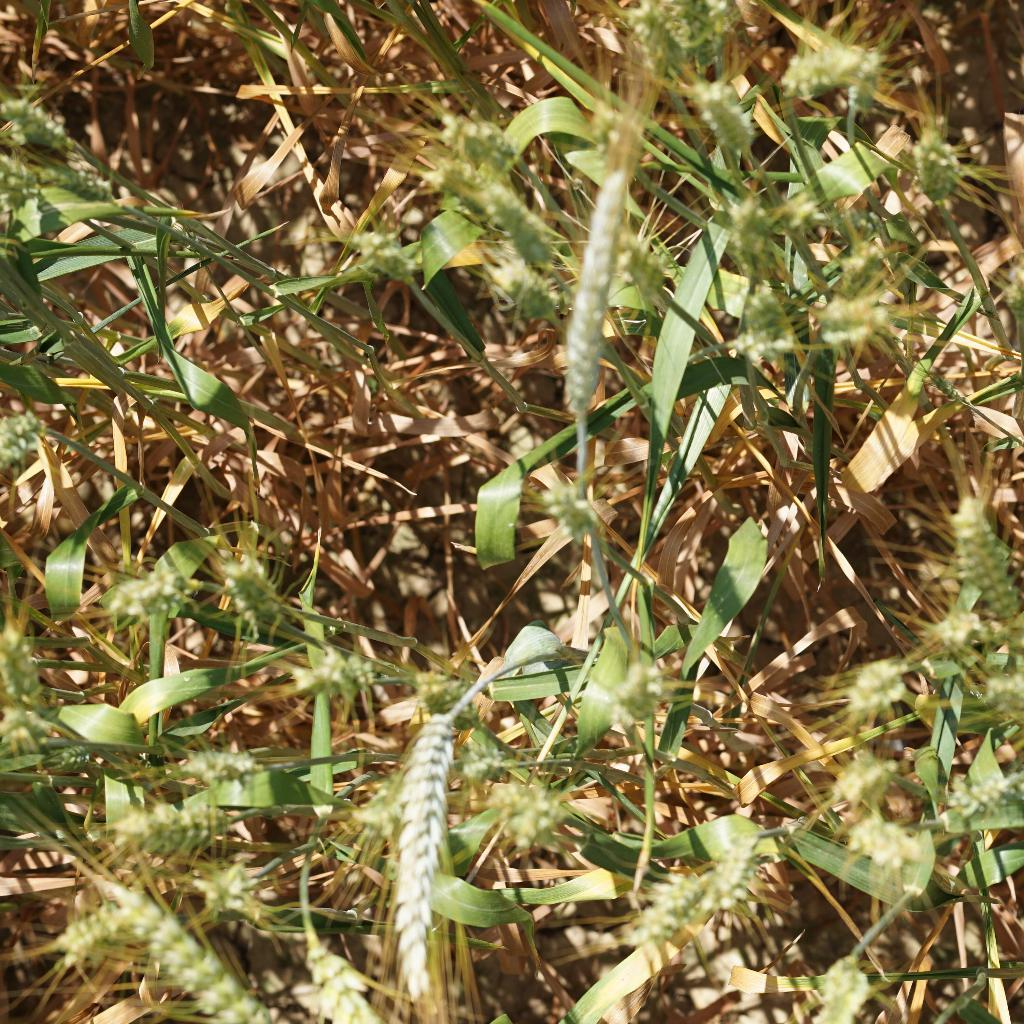0-0: (104, 869, 291, 1024), (384, 703, 470, 1006), (556, 139, 634, 418), (449, 165, 565, 272), (298, 933, 419, 1024), (944, 503, 1023, 616), (707, 819, 787, 916), (584, 89, 657, 195), (101, 798, 232, 855), (0, 84, 83, 169), (215, 550, 303, 629), (768, 45, 891, 99), (97, 556, 191, 623), (336, 220, 426, 287), (697, 75, 768, 159), (492, 765, 567, 843), (800, 951, 879, 1024), (900, 131, 971, 212), (485, 257, 568, 326), (634, 863, 703, 946), (819, 281, 894, 357), (175, 737, 273, 795), (185, 863, 275, 926), (740, 275, 806, 359), (616, 228, 684, 309), (411, 665, 497, 729), (830, 645, 912, 712), (911, 591, 994, 657), (285, 650, 378, 708), (430, 97, 514, 161), (530, 478, 606, 546), (605, 655, 678, 725), (858, 804, 929, 875), (828, 738, 911, 798), (48, 894, 129, 955), (35, 159, 132, 208), (819, 228, 890, 292), (0, 704, 73, 766), (0, 401, 55, 482), (950, 759, 1024, 819), (0, 627, 54, 706), (616, 0, 679, 66), (342, 781, 402, 848), (717, 183, 772, 256), (450, 741, 520, 791), (771, 189, 828, 243), (657, 0, 718, 48), (968, 666, 1024, 709), (926, 372, 969, 408)
